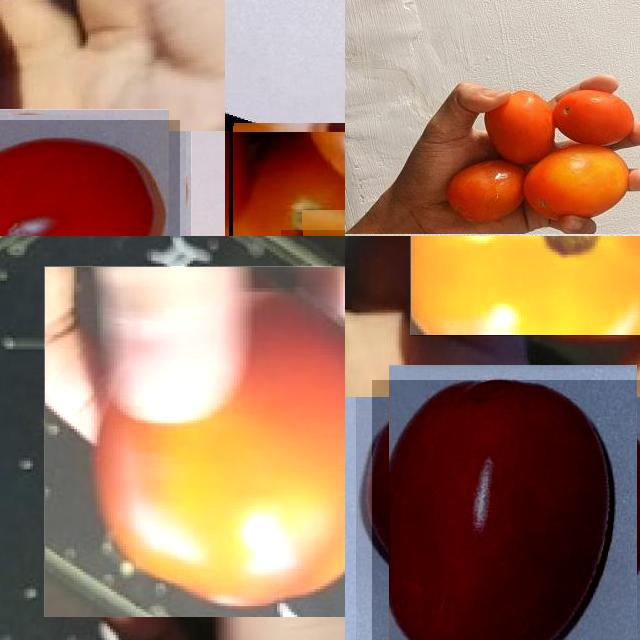Fresh Tomato: (44, 266, 345, 617), (372, 380, 640, 640), (410, 236, 640, 335), (0, 119, 180, 236), (229, 126, 345, 236)
